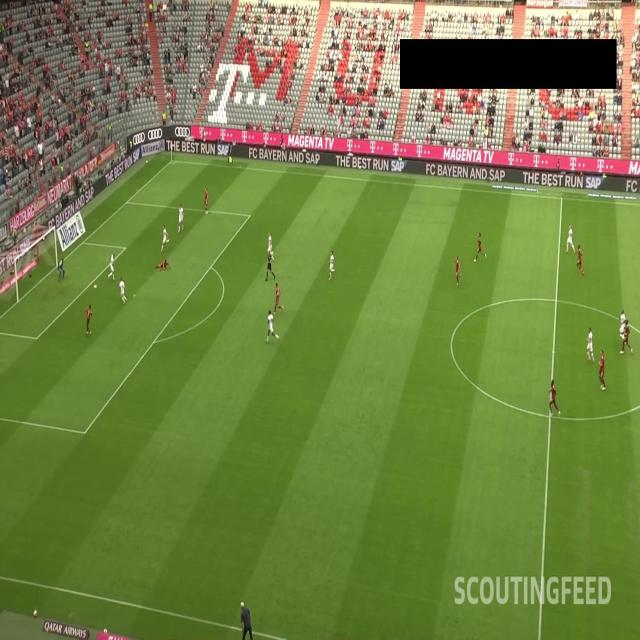ball: (93, 282, 98, 292)
player: (548, 377, 562, 419), (264, 309, 280, 345), (472, 229, 488, 265), (619, 318, 634, 354), (271, 281, 285, 318), (583, 326, 595, 363), (82, 301, 94, 336), (598, 347, 607, 392), (160, 222, 172, 253), (565, 222, 576, 255), (154, 258, 176, 274), (453, 254, 463, 289), (618, 307, 627, 345), (107, 251, 117, 283), (56, 255, 67, 284), (118, 276, 128, 306), (328, 250, 337, 282), (576, 242, 584, 276), (177, 202, 185, 234), (267, 230, 275, 262), (203, 184, 210, 217)
referee: (264, 249, 276, 283), (227, 142, 235, 168)
